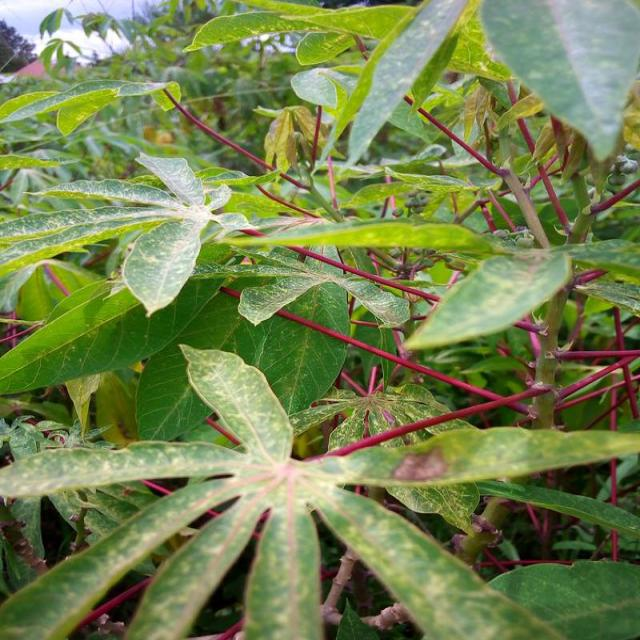cassava leaf: (0, 1, 638, 637), (477, 0, 638, 167), (402, 247, 572, 352)
